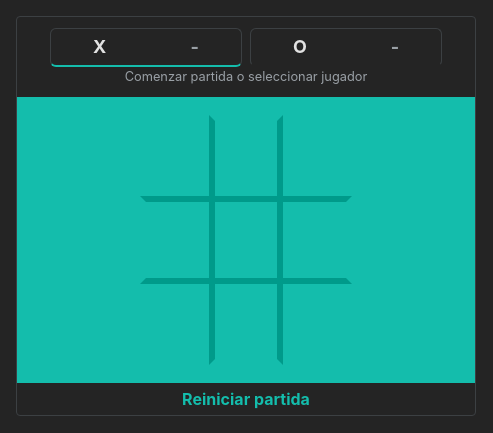
Scenario: Comenzando el juego › Comienza el juego la letra X
Click the button "X -": [146, 47] box [50, 28, 242, 67]
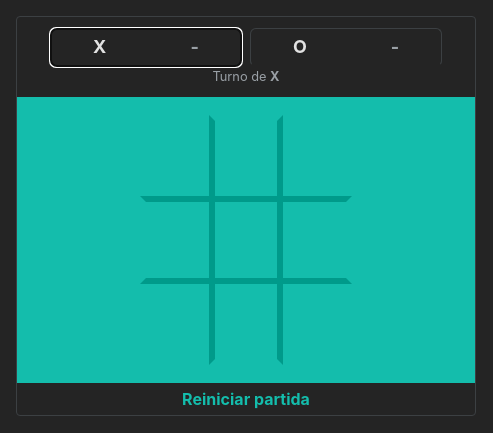
Expected: the text "X" next to "Turno de" is shown, [270, 69, 280, 84]
